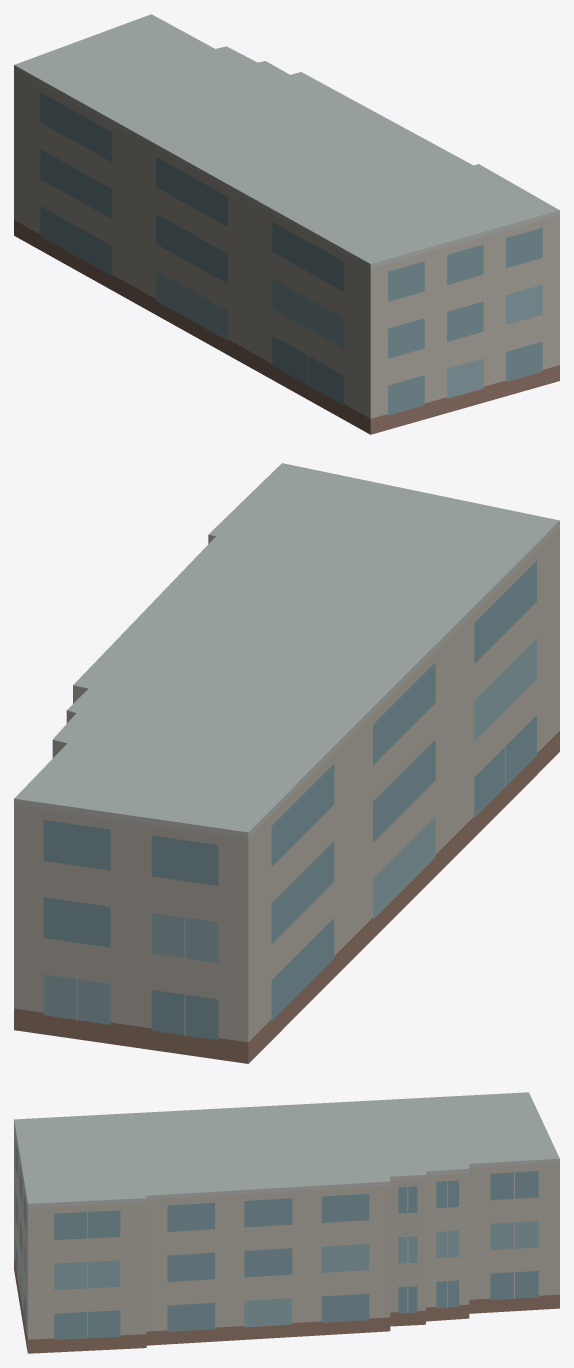
File: survey-upis-32892358.glb
3 views of the same model, one above another, from view 1: azimuth 30°, elevation 25°; view 2: azimuth 150°, elevation 25°; view 3: azimuth 270°, elevation 25° (orthographic). The views are drawn at different scales.
Parts seen in each view (by area): view 1: survey-upis-32892358.tmp; view 2: survey-upis-32892358.tmp; view 3: survey-upis-32892358.tmp.
Boxes of the visible parts, x1,y1,x2,y2 form: survey-upis-32892358.tmp: [14, 14, 559, 434]; survey-upis-32892358.tmp: [14, 463, 559, 1063]; survey-upis-32892358.tmp: [14, 1092, 559, 1353].
Bounding box in the file's own units: 14.62 × 9.15 × 30.21.
